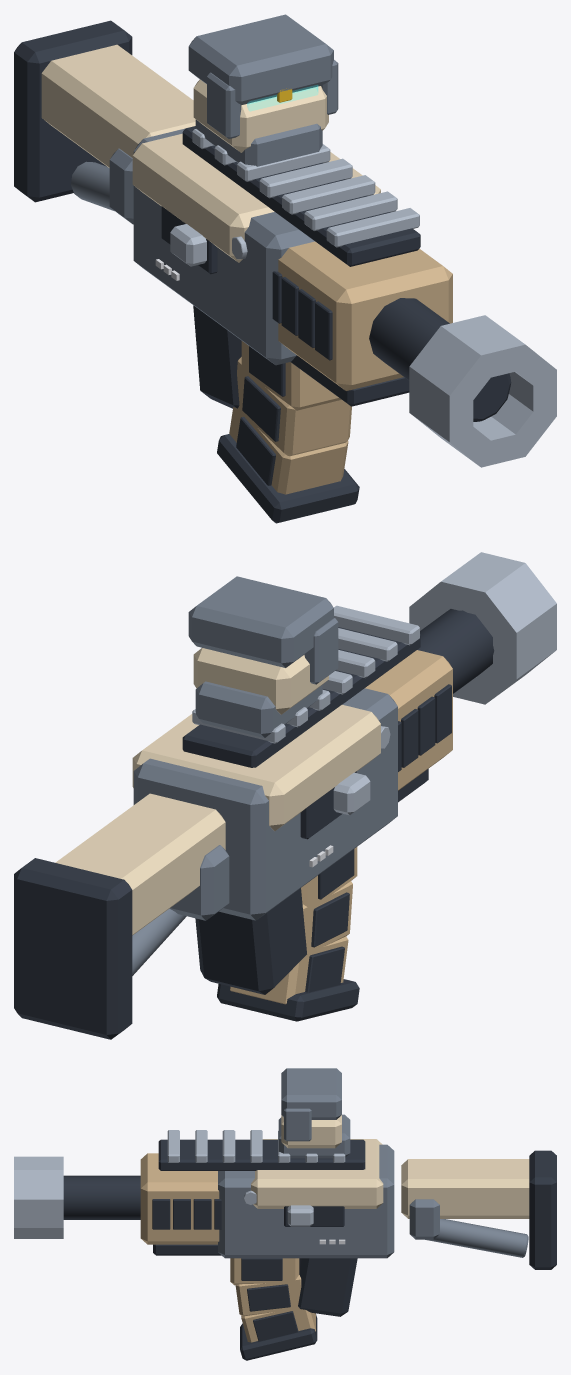
File: Military_SMG_v001.fbx
3 renders of one model, top to bottom at view 1: azimuth 30°, elevation 25°; view 2: azimuth 150°, elevation 25°; view 3: azimuth 270°, elevation 25°, orthographic. The views are drawn at different scales.
Visible parts, largest first — view 1: Military_SMG__RECEIVER_MESH, Military_SMG__MAGAZINE_MESH; view 2: Military_SMG__RECEIVER_MESH, Military_SMG__MAGAZINE_MESH; view 3: Military_SMG__RECEIVER_MESH, Military_SMG__MAGAZINE_MESH.
Part boxes in pixels (left/top/right/bottom): Military_SMG__RECEIVER_MESH: left=14, top=14, right=556, bottom=467; Military_SMG__MAGAZINE_MESH: left=217, top=341, right=359, bottom=523; Military_SMG__RECEIVER_MESH: left=14, top=552, right=556, bottom=1039; Military_SMG__MAGAZINE_MESH: left=217, top=847, right=359, bottom=1021; Military_SMG__RECEIVER_MESH: left=14, top=1068, right=556, bottom=1316; Military_SMG__MAGAZINE_MESH: left=230, top=1258, right=317, bottom=1360.
Bounding box in the file's own units: 0.475 × 1.07 × 1.97.
